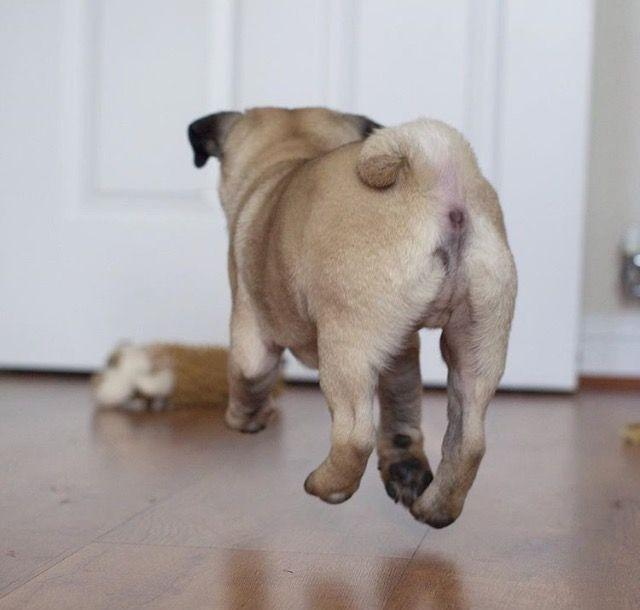adult_dog: (185, 106, 519, 531)
